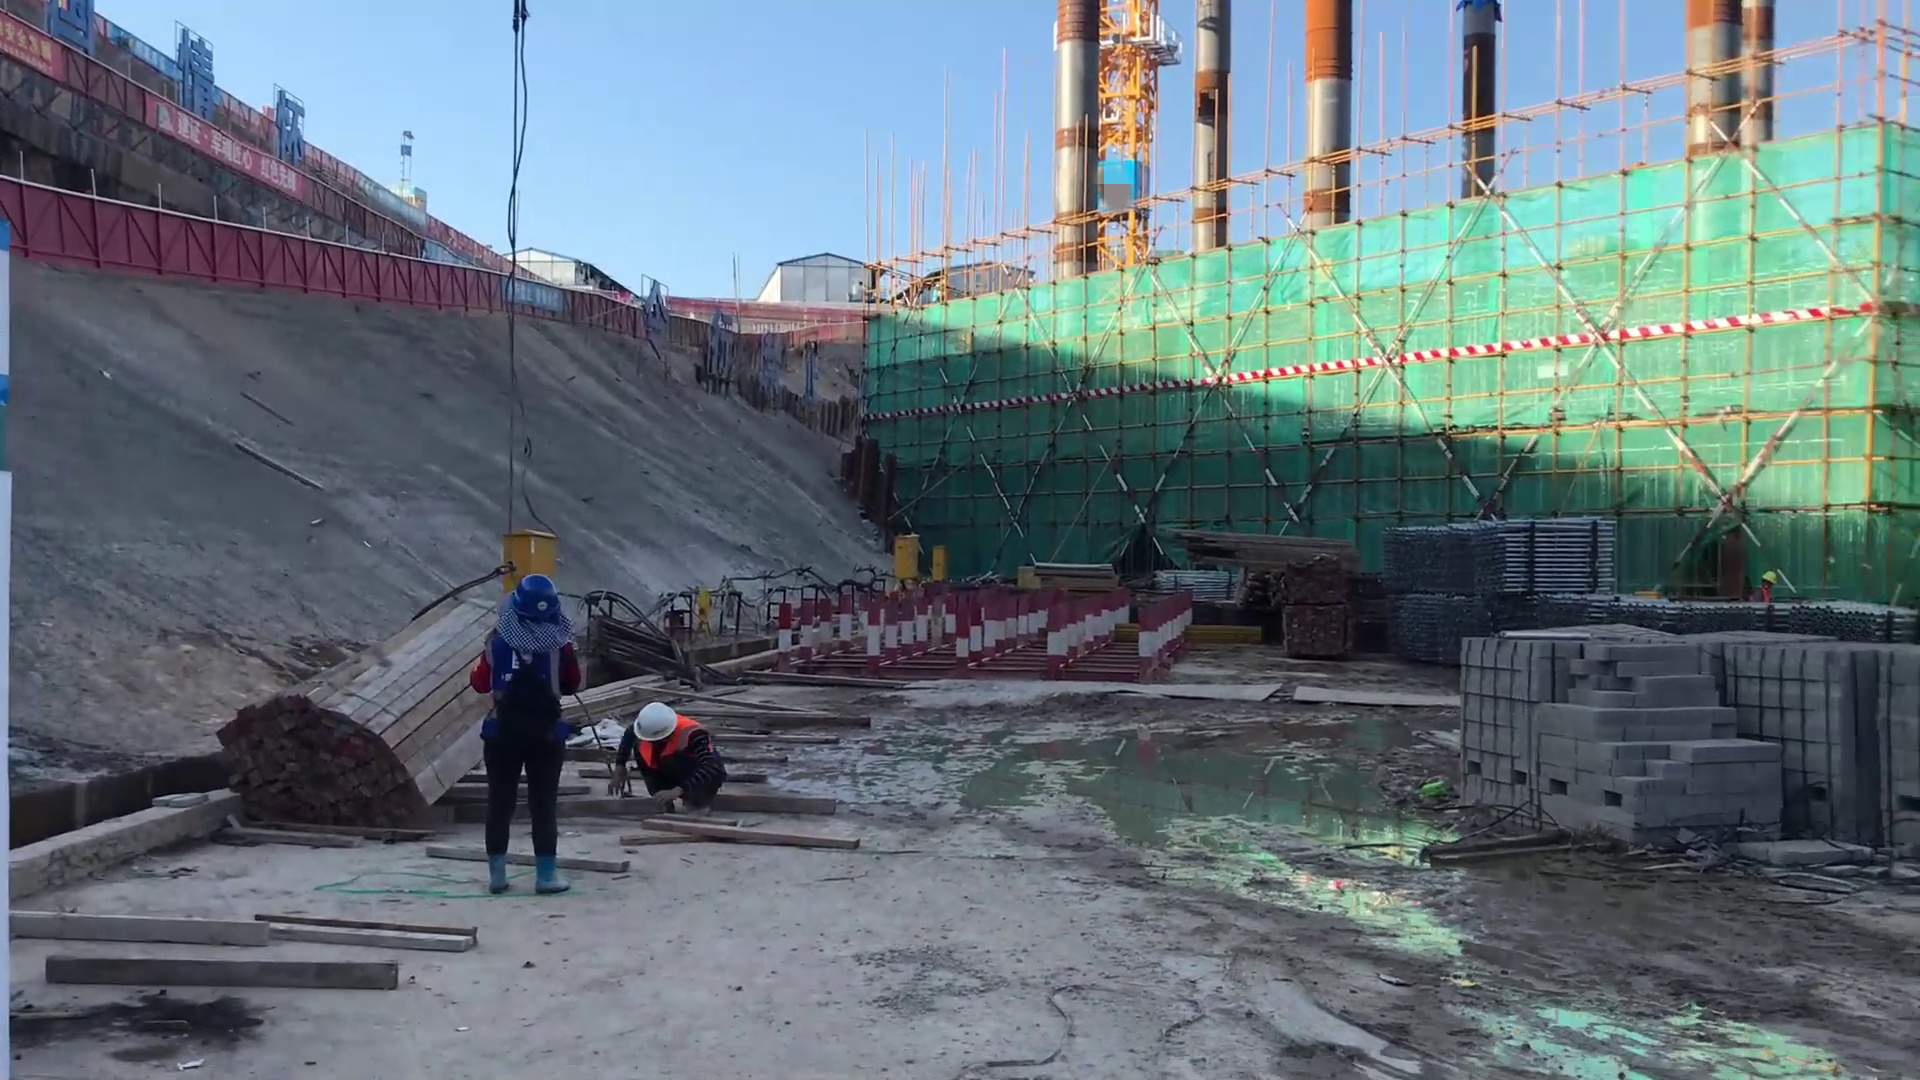brick: (1456, 626, 1920, 861)
ebox: (889, 529, 914, 581), (929, 546, 947, 579)
fence: (1, 189, 382, 314), (384, 252, 571, 315)
helmet: (497, 576, 568, 637), (629, 697, 681, 744), (1761, 567, 1779, 584)
person: (472, 564, 579, 905), (604, 697, 727, 806)
scaffold: (1362, 501, 1591, 602), (1391, 590, 1470, 662)
vest: (643, 724, 714, 787)
wood: (218, 594, 463, 835), (1178, 515, 1358, 589)
